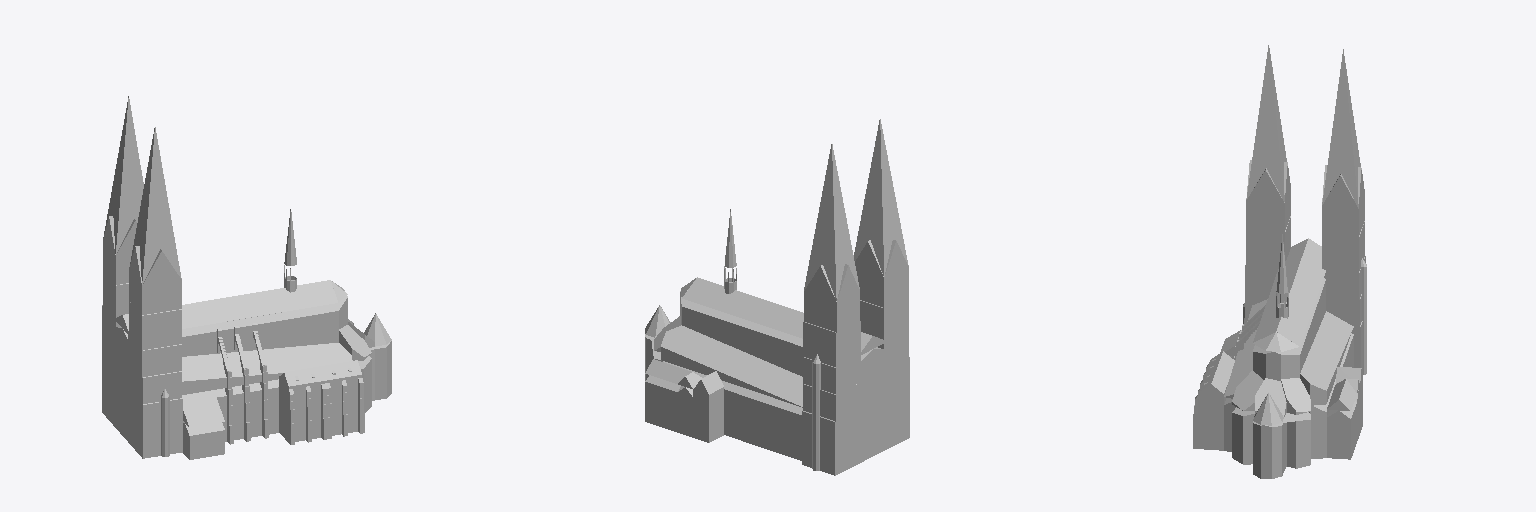
File: Lübeck Medival.obj
3 views of the same model, side by side, from view 1: azimuth 30°, elevation 25°; view 2: azimuth 150°, elevation 25°; view 3: azimuth 270°, elevation 25° (orthographic).
Visible parts, largest first — view 1: St_Marien; view 2: St_Marien; view 3: St_Marien.
Boxes of the visible parts, box(x1,y1,x2,y2) form: St_Marien: box(102, 96, 391, 459); St_Marien: box(645, 119, 909, 475); St_Marien: box(1193, 45, 1366, 478).
Bounding box in the file's own units: 99.43 × 120 × 58.97.